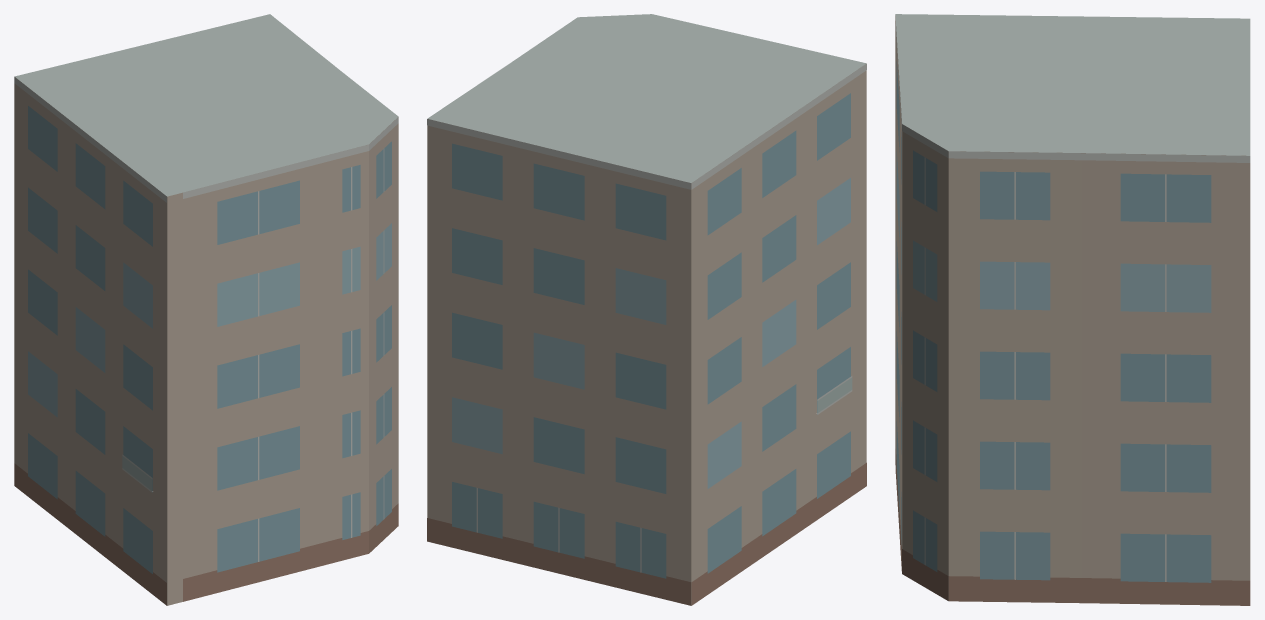
File: survey-upis-32964799.glb
The picture shows the model from 3 angles, left to right: view 1: azimuth 30°, elevation 25°; view 2: azimuth 150°, elevation 25°; view 3: azimuth 270°, elevation 25°; orthographic projection. The views are drawn at different scales.
Visible parts, largest first — view 1: survey-upis-32964799.tmp; view 2: survey-upis-32964799.tmp; view 3: survey-upis-32964799.tmp.
Part boxes in pixels (box(x1,y1,x2,y2)): survey-upis-32964799.tmp: box(14, 14, 398, 605); survey-upis-32964799.tmp: box(427, 14, 866, 605); survey-upis-32964799.tmp: box(895, 14, 1250, 605).
Size of the model in its own units: 10.32 by 15.25 by 10.91.
